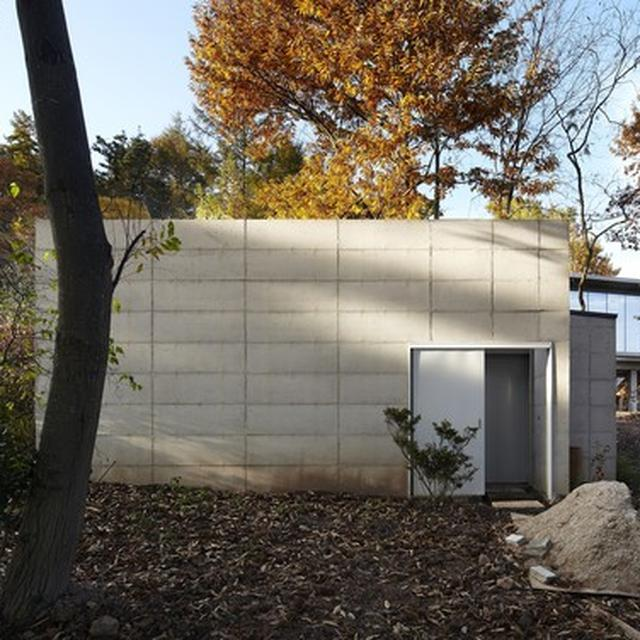building: (32, 211, 640, 523)
